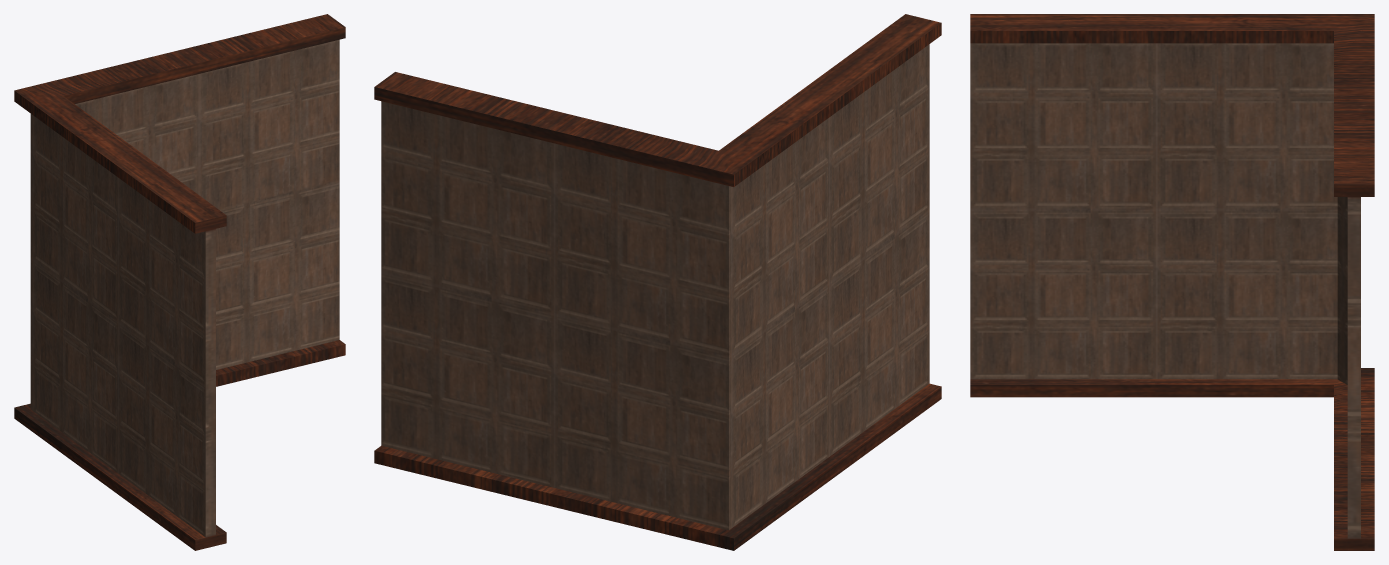
The model's file is NEW_CORNER_TOP.fbx.
The picture shows the model from 3 angles, left to right: view 1: azimuth 30°, elevation 25°; view 2: azimuth 150°, elevation 25°; view 3: azimuth 270°, elevation 25°; orthographic projection. The views are drawn at different scales.
Parts seen in each view (by area): view 1: CORNER; view 2: CORNER; view 3: CORNER.
Part boxes in pixels (x1,y1,x2,y2): CORNER: (14,14,345,550); CORNER: (374,14,941,550); CORNER: (970,14,1374,550).
Bounding box in the file's own units: 300 × 300 × 300.
